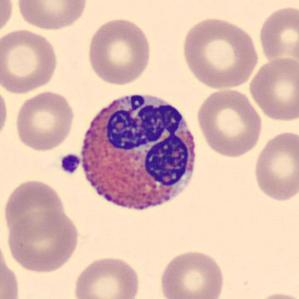Eosinophil: (73, 82, 204, 224)
Platelets: (58, 152, 82, 175)
RBC: (178, 15, 260, 91), (194, 86, 264, 159), (85, 15, 154, 87), (5, 208, 80, 274), (0, 26, 60, 96), (13, 89, 76, 153), (1, 177, 66, 239), (157, 247, 225, 299), (251, 128, 298, 203), (247, 55, 298, 123), (71, 253, 142, 299), (257, 3, 298, 66), (15, 0, 90, 31), (0, 240, 22, 298), (0, 82, 10, 144), (0, 0, 15, 39), (251, 289, 299, 299)
